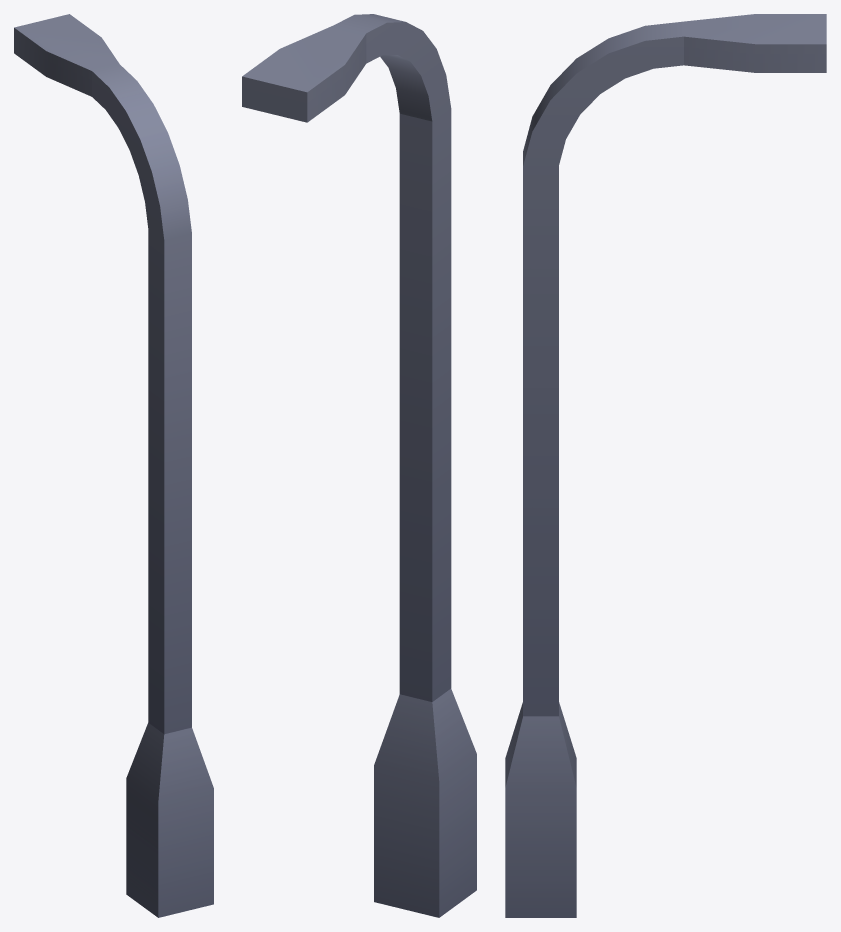
The model's file is lamp.glb.
3 views of the same model, side by side, from view 1: azimuth 30°, elevation 25°; view 2: azimuth 150°, elevation 25°; view 3: azimuth 270°, elevation 25° (orthographic). The views are drawn at different scales.
Parts seen in each view (by area): view 1: light-curved; view 2: light-curved; view 3: light-curved.
Boxes of the visible parts, bbox=[...] form: light-curved: bbox=[14, 14, 213, 917]; light-curved: bbox=[242, 14, 476, 917]; light-curved: bbox=[505, 14, 826, 917].
Bounding box in the file's own units: 0.05 × 0.675 × 0.225.
Materials: 1 (1 with a texture image).
